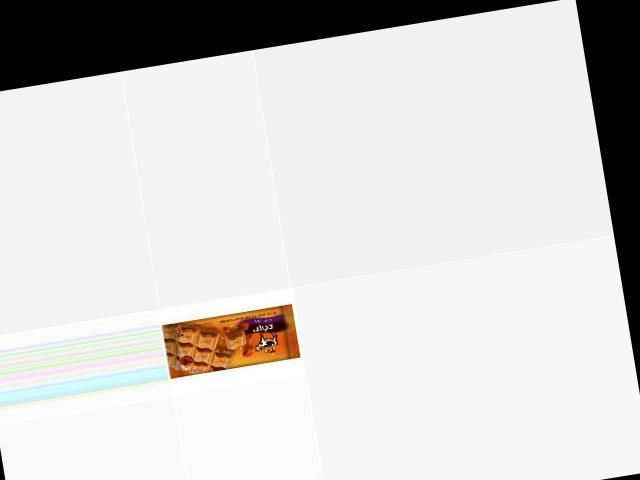chocolate: (160, 299, 304, 378)
